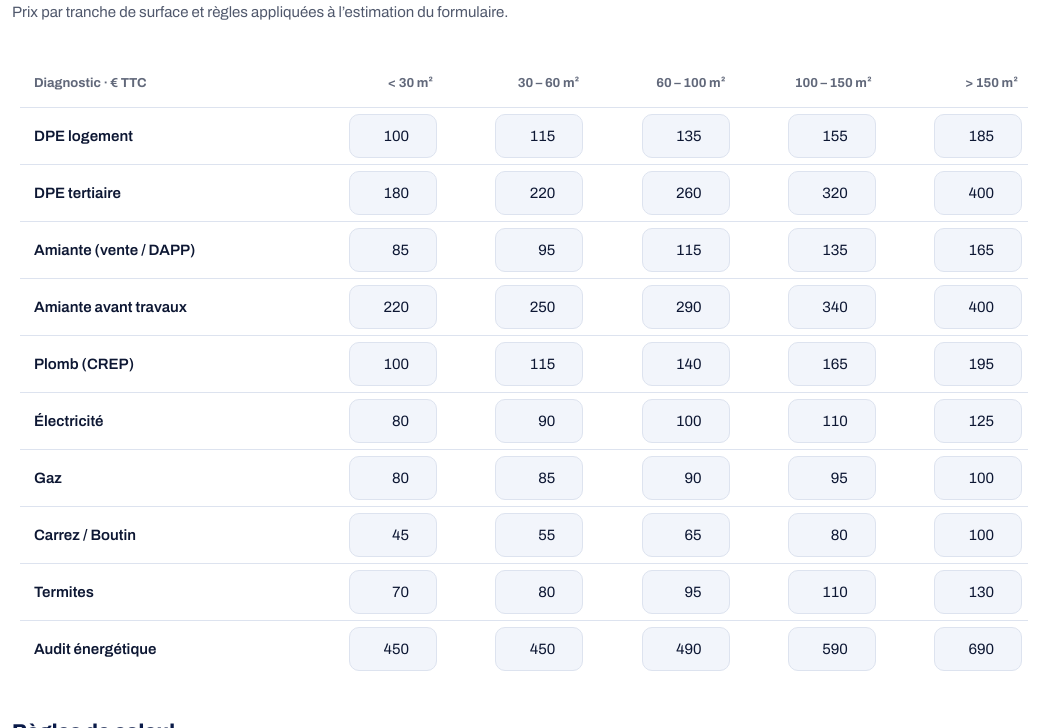
Test: PriceGrid › modifier une cellule appelle l’action avec la bonne clé et le bon index
Replace the text in the number field named "Amiante avant travaux, 60 – 100 m²" with "300" at (686, 307), box [642, 285, 730, 329]
(page scrolled)
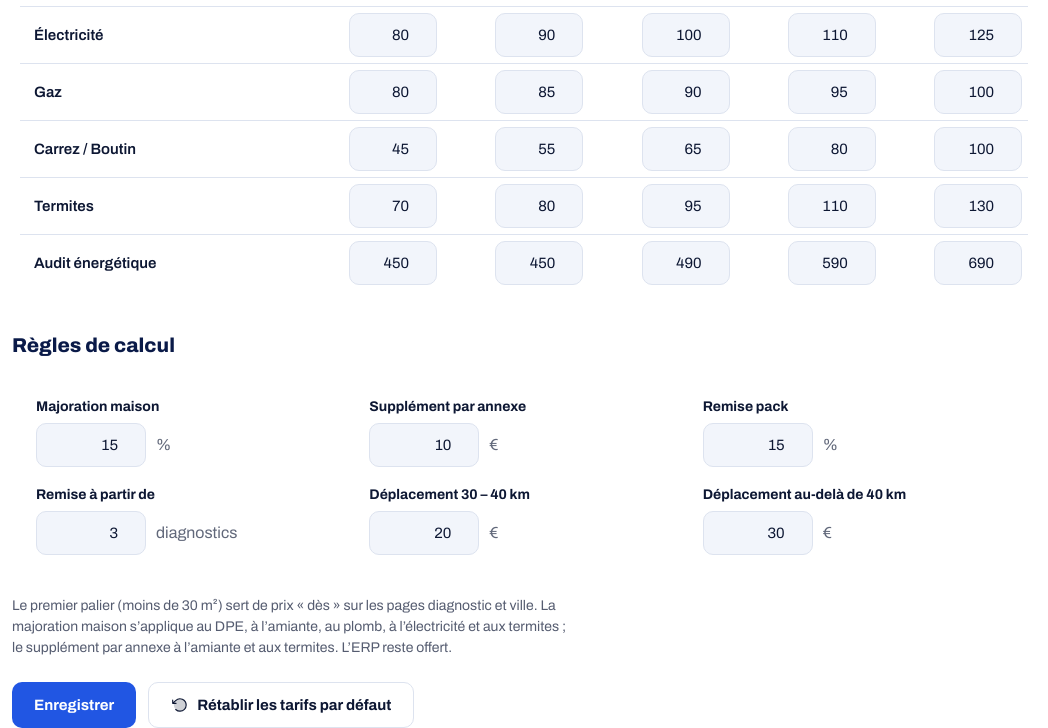
Click the button "Enregistrer" at (74, 705), box [12, 682, 136, 727]
(page scrolled)
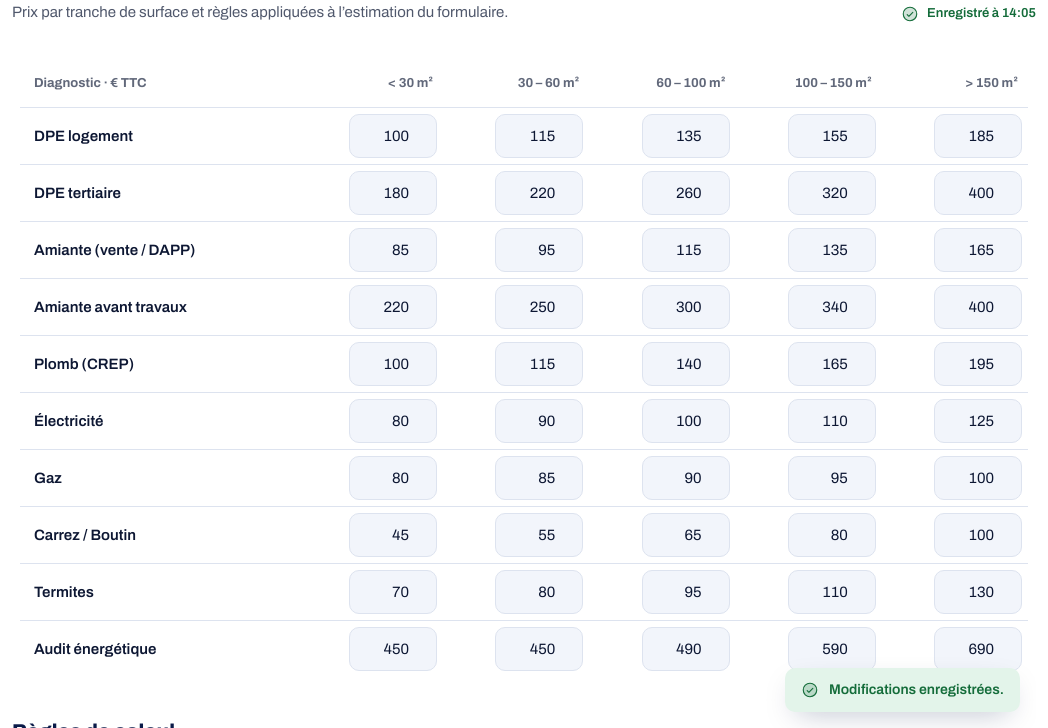
Now the text "Enregistré à 14:05" is shown, box [901, 4, 1036, 24]
